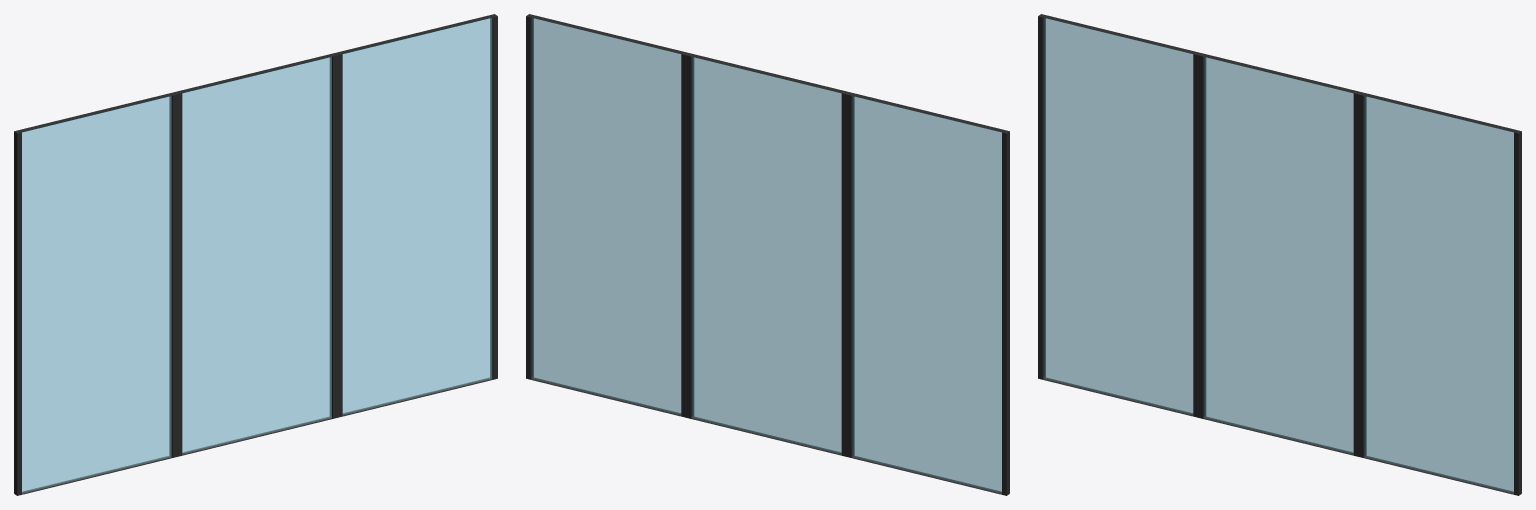
The model's file is PetiteFenetre.glb.
The picture shows the model from 3 angles, left to right: view 1: azimuth 30°, elevation 25°; view 2: azimuth 150°, elevation 25°; view 3: azimuth 330°, elevation 25°; orthographic projection.
Parts seen in each view (by area): view 1: Cube.005; view 2: Cube.005; view 3: Cube.005.
Boxes of the visible parts, x1,y1,x2,y2 form: Cube.005: (14,14,497,495); Cube.005: (526,14,1009,495); Cube.005: (1038,14,1521,495).
Size of the model in its own units: 2.78 by 2 by 0.0327.
